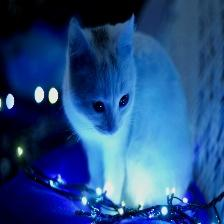kedo: (65, 16, 192, 204)
